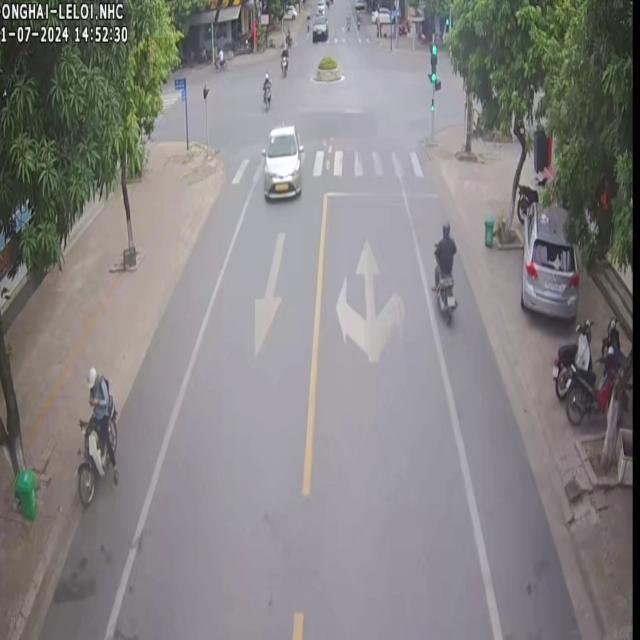car: (519, 200, 578, 318), (259, 125, 303, 200), (310, 11, 327, 39)
green_light: (428, 40, 438, 88)
motobike: (76, 365, 117, 502), (564, 349, 620, 422), (550, 318, 590, 398), (433, 220, 456, 322), (260, 71, 269, 108)
stop_line: (325, 187, 432, 195)
